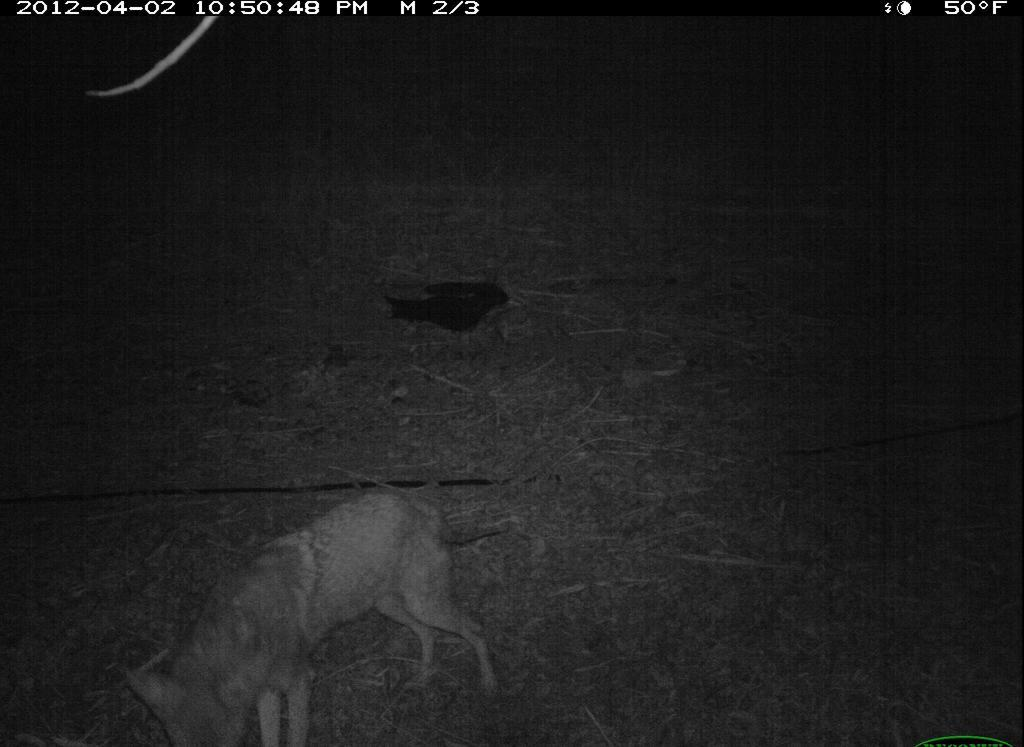coyote: (127, 478, 520, 745)
